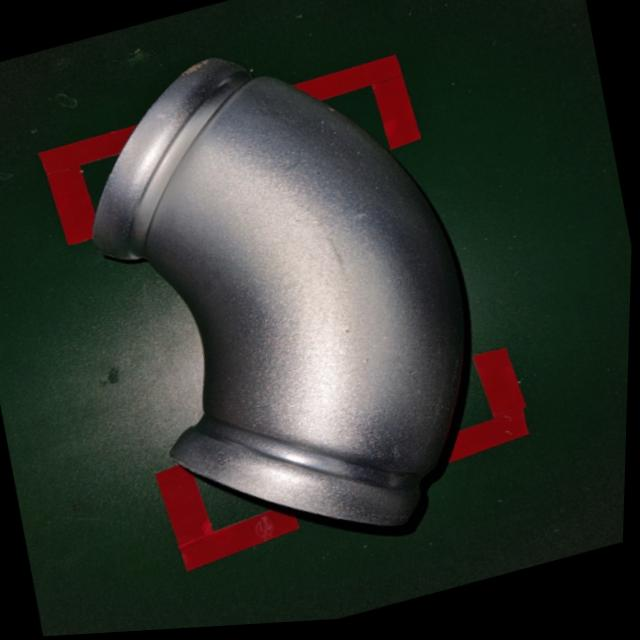Normal: (43, 0, 534, 613)
